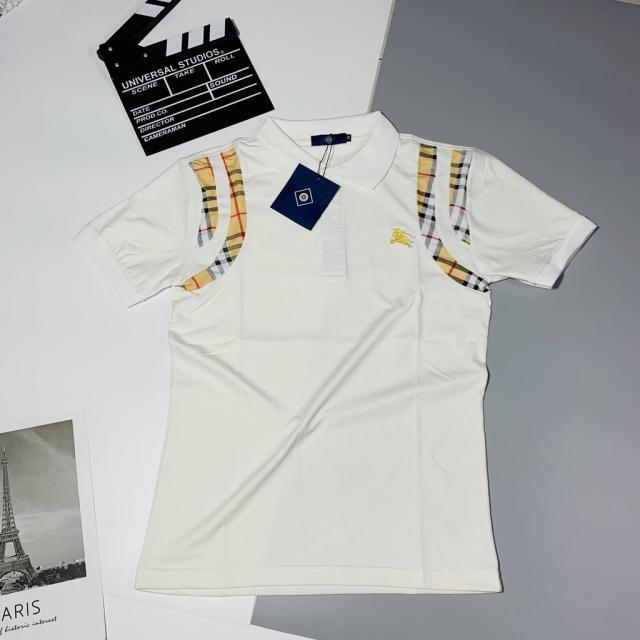Shirt: (78, 116, 600, 592)
